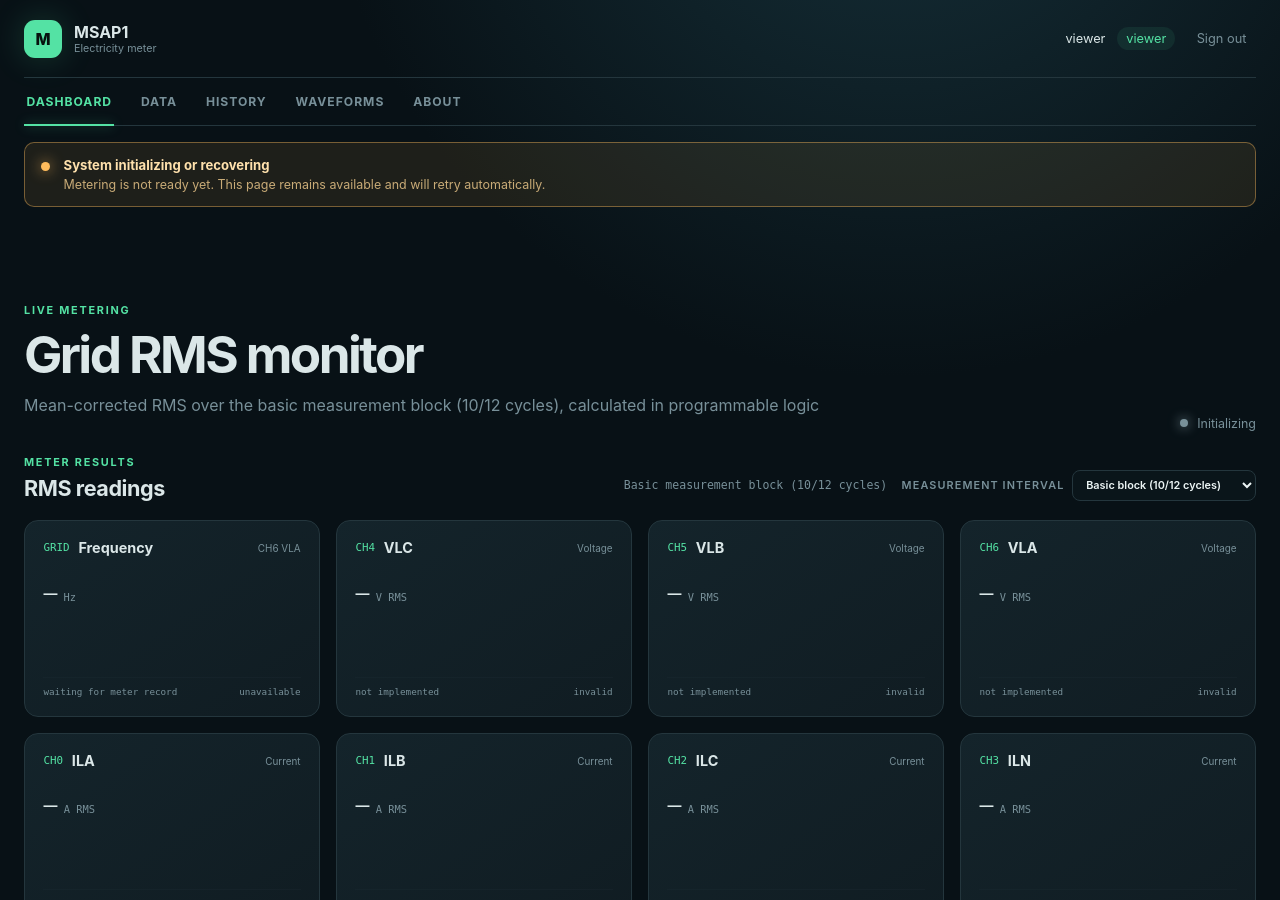
Scenario: dashboard startup readiness › shows both exact documentation downloads to a Viewer
Step 1. Click the button "About" → (437,102), box [411,78,464,125]
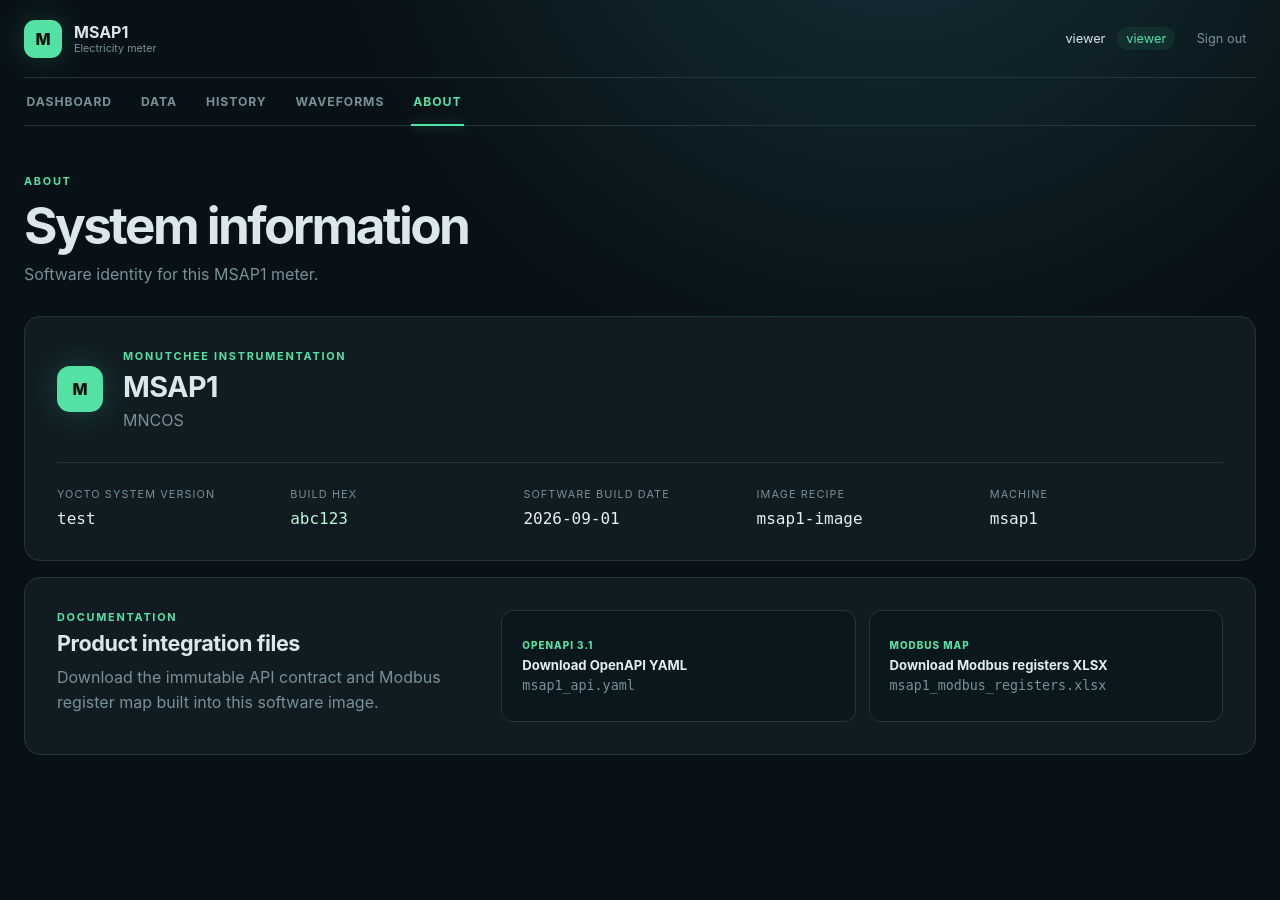
Expected: the text "abc123" is shown, [290,509,348,528]
